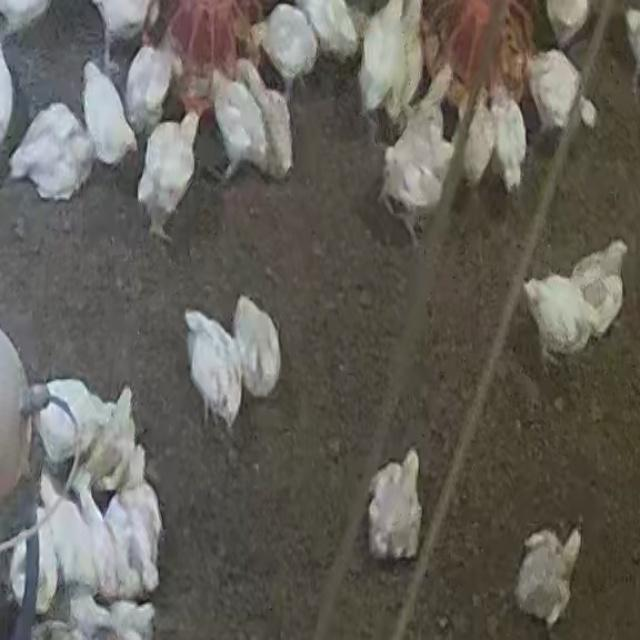chicken: (10, 98, 98, 206), (136, 112, 202, 243), (172, 306, 242, 428), (205, 68, 272, 188), (78, 56, 140, 168), (366, 447, 426, 561), (520, 525, 583, 627), (232, 293, 284, 402)
